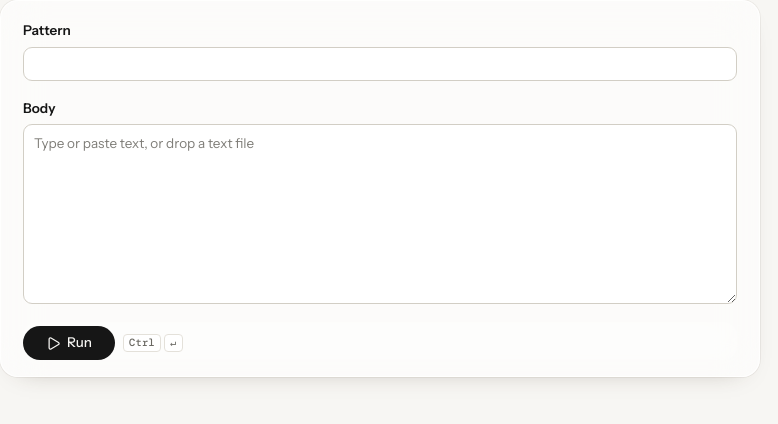
Test: tool form validation › keeps over-long text, shows it is too long and blocks Run instead of truncating
Expected: the text "/ 10" is not shown
Type "abcdefghijkl" into the field labelled "Pattern" at (380, 64), box [23,47,737,81]
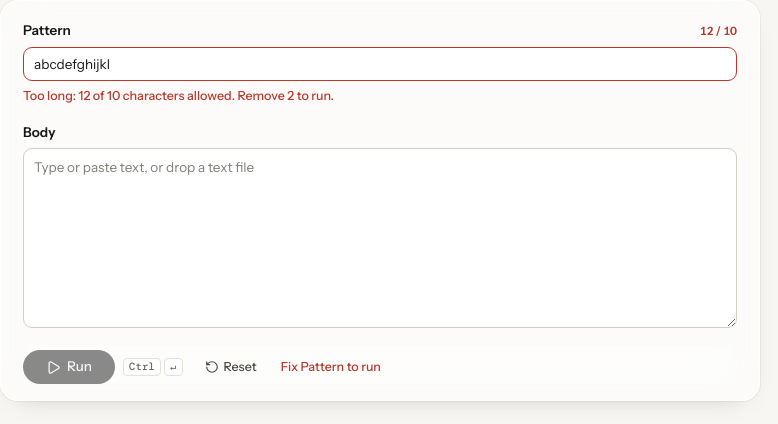
Expected: the text "Too long: 12 of 10 characters allowed. Remove 2 to run." is shown, [23,88,334,103]
Expected: the button "Run" is disabled, [23,350,115,384]
Replace the text in the field labelled "Pattern" with "abcdefghij" at (380, 64), box [23,47,737,81]
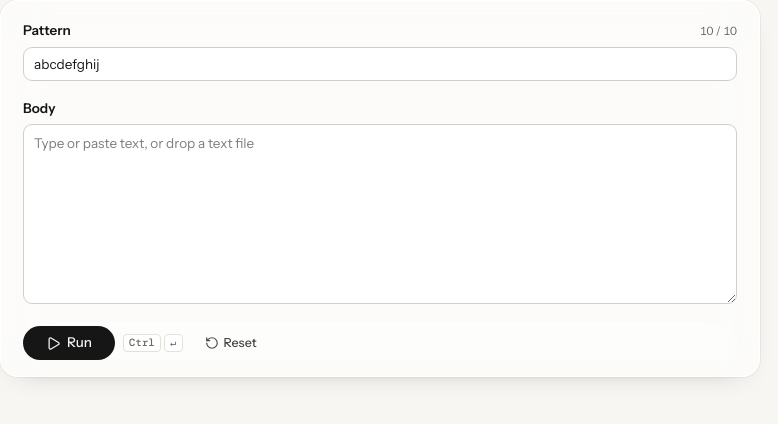
Expected: the text "Too long" is gone
Expected: the button "Run" is enabled, [23,326,115,360]
Type "héllo" into the text box labelled "Body" at (380, 214), box [23,124,737,304]
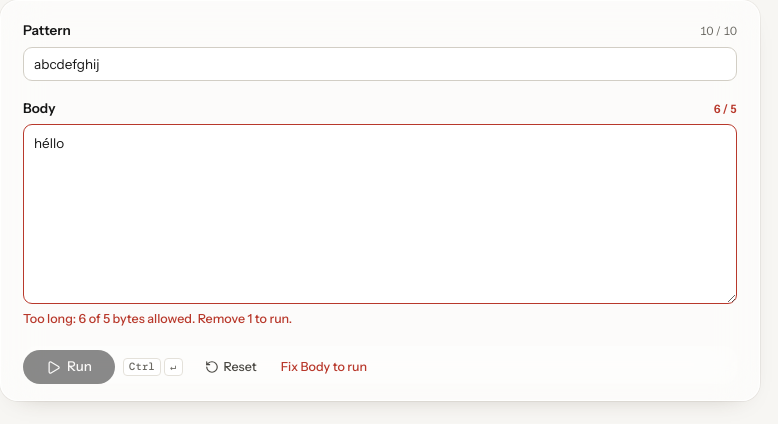
Expected: the text "Too long: 6 of 5 bytes allowed. Remove 1 to run." is shown, [23,311,292,326]
Expected: the button "Run" is disabled, [23,350,115,384]
